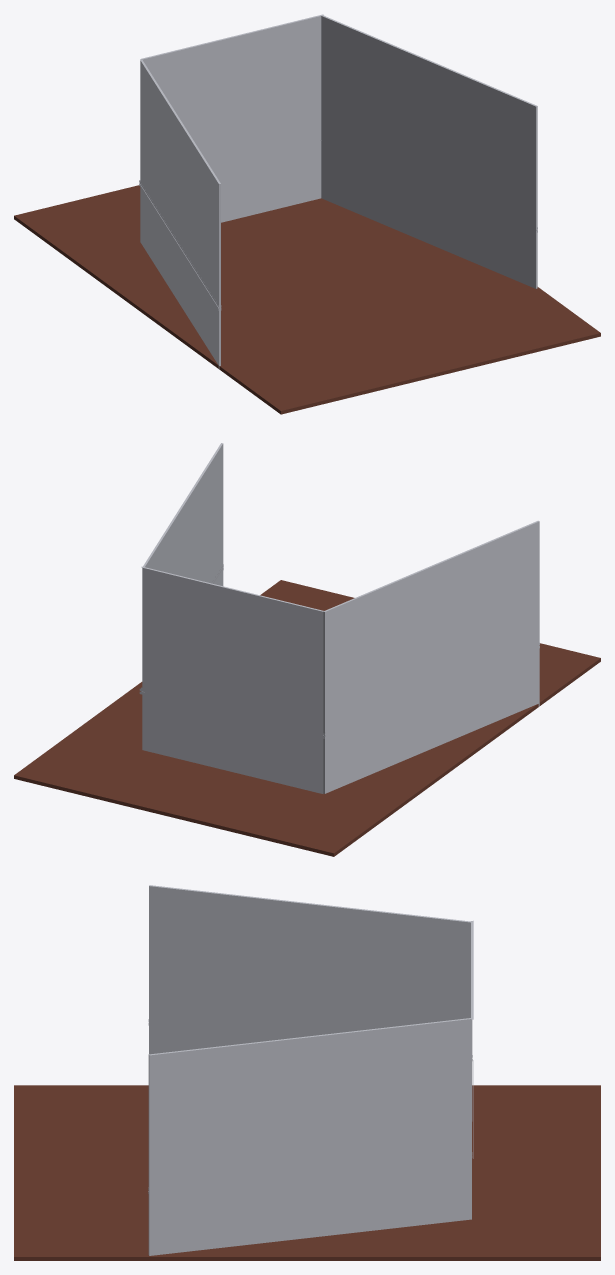
File: Enviro_Bedroomwalls_001.fbx
3 renders of one model, top to bottom at view 1: azimuth 30°, elevation 25°; view 2: azimuth 150°, elevation 25°; view 3: azimuth 270°, elevation 25°, orthographic. The views are drawn at different scales.
Visible parts, largest first — view 1: Bedroom_Floor, Bedroom_Wall_left, Bedroom_Wall_Back, Bedroom_Wall_Right; view 2: Bedroom_Wall_Right, Bedroom_Wall_Back, Bedroom_Floor, Bedroom_Wall_left; view 3: Bedroom_Wall_left, Bedroom_Floor, Bedroom_Wall_Right.
Part boxes in pixels (box(x1,y1,x2,y2)): Bedroom_Floor: box(14, 185, 600, 414); Bedroom_Wall_left: box(321, 15, 537, 288); Bedroom_Wall_Back: box(139, 14, 323, 222); Bedroom_Wall_Right: box(140, 60, 221, 368); Bedroom_Wall_Right: box(323, 520, 539, 793); Bedroom_Wall_Back: box(139, 566, 325, 793); Bedroom_Floor: box(14, 580, 600, 856); Bedroom_Wall_left: box(142, 443, 223, 692); Bedroom_Wall_left: box(148, 1018, 472, 1255); Bedroom_Floor: box(14, 1085, 600, 1260); Bedroom_Wall_Right: box(148, 885, 472, 1121).
Size of the model in its own units: 15288 by 8486 by 22043.
